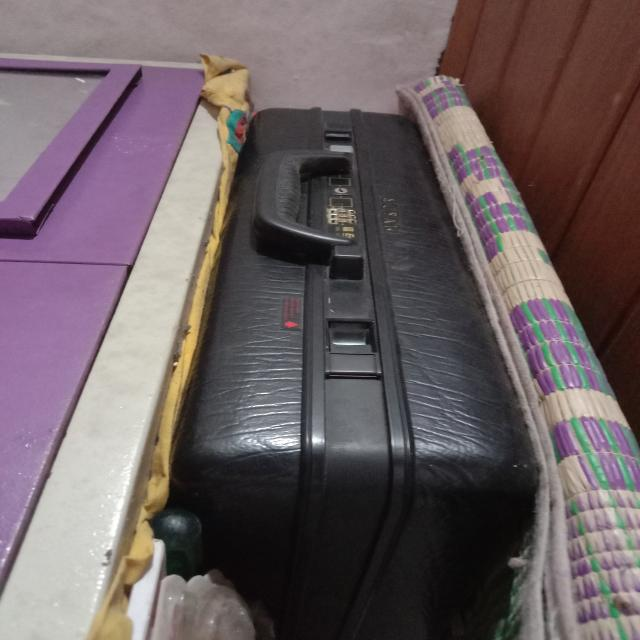suitcaserotation: (165, 102, 542, 638)
